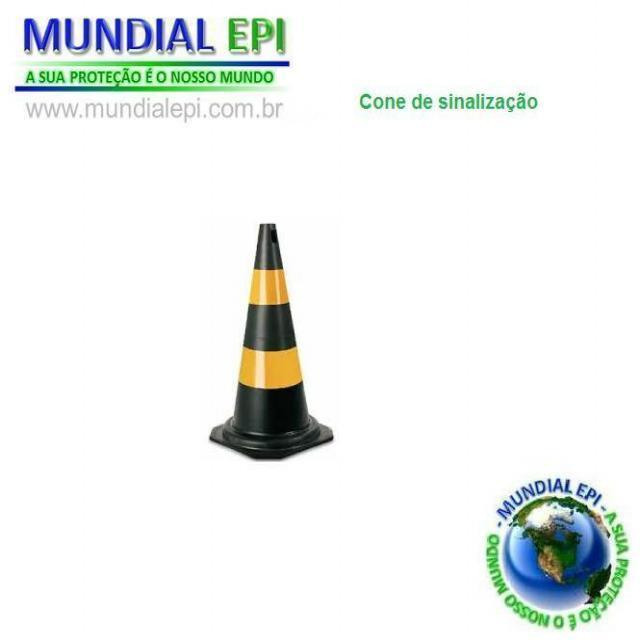traffic cone: (209, 222, 334, 460)
